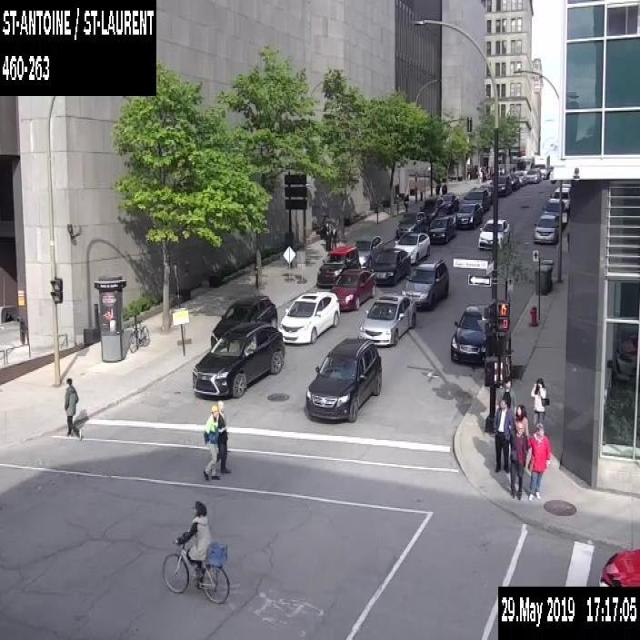construction: (282, 244, 295, 280), (296, 249, 306, 282)
cyclist: (163, 499, 230, 601)
pedestrian: (526, 422, 550, 500), (492, 395, 513, 472), (508, 419, 527, 498), (202, 401, 219, 479), (63, 374, 82, 438), (512, 403, 528, 470), (218, 398, 232, 473), (530, 377, 548, 431), (494, 377, 515, 420), (331, 224, 336, 248), (404, 192, 408, 212), (441, 181, 447, 194), (435, 182, 439, 193)
vehicle: (192, 321, 284, 396), (305, 337, 381, 421), (210, 294, 277, 347), (278, 290, 340, 343), (358, 292, 416, 346), (399, 257, 448, 309), (449, 304, 488, 364), (328, 268, 376, 309), (316, 244, 360, 287), (599, 547, 639, 584), (369, 248, 410, 284), (392, 231, 430, 265), (478, 216, 510, 249), (352, 234, 383, 268), (533, 212, 558, 244), (452, 201, 482, 227), (396, 211, 426, 237), (427, 215, 455, 242), (541, 198, 566, 228), (457, 187, 489, 210), (421, 196, 444, 226), (549, 186, 570, 211), (532, 152, 550, 178), (514, 154, 533, 176), (491, 174, 511, 194), (441, 192, 458, 212), (478, 183, 492, 202), (524, 166, 540, 182), (506, 172, 518, 190), (514, 170, 526, 185), (562, 179, 570, 186)
